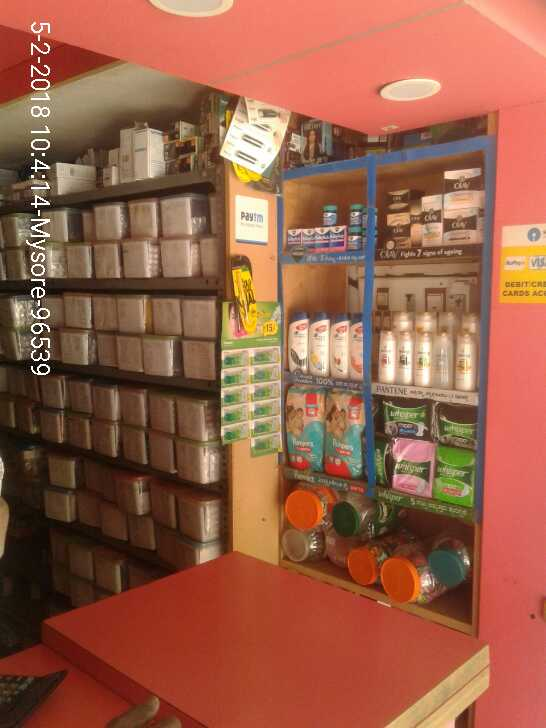beauty: (445, 166, 483, 207), (304, 310, 327, 374), (447, 210, 485, 246), (421, 196, 447, 247), (453, 333, 474, 394), (432, 331, 455, 386), (383, 188, 417, 224), (289, 314, 309, 374), (391, 334, 413, 386), (374, 331, 394, 385), (330, 312, 345, 378), (346, 315, 361, 380), (413, 333, 430, 388), (384, 220, 413, 249)
pharmacy: (322, 387, 362, 481), (286, 390, 326, 468), (384, 438, 431, 496), (436, 447, 474, 510), (382, 403, 427, 435), (440, 409, 476, 443), (318, 203, 339, 227), (286, 226, 302, 252), (331, 224, 345, 252), (316, 224, 331, 250), (349, 202, 363, 225), (303, 230, 317, 253)
